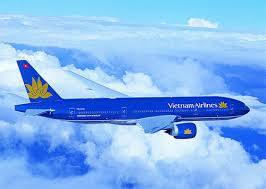maybay_dansu: (10, 62, 266, 145)
